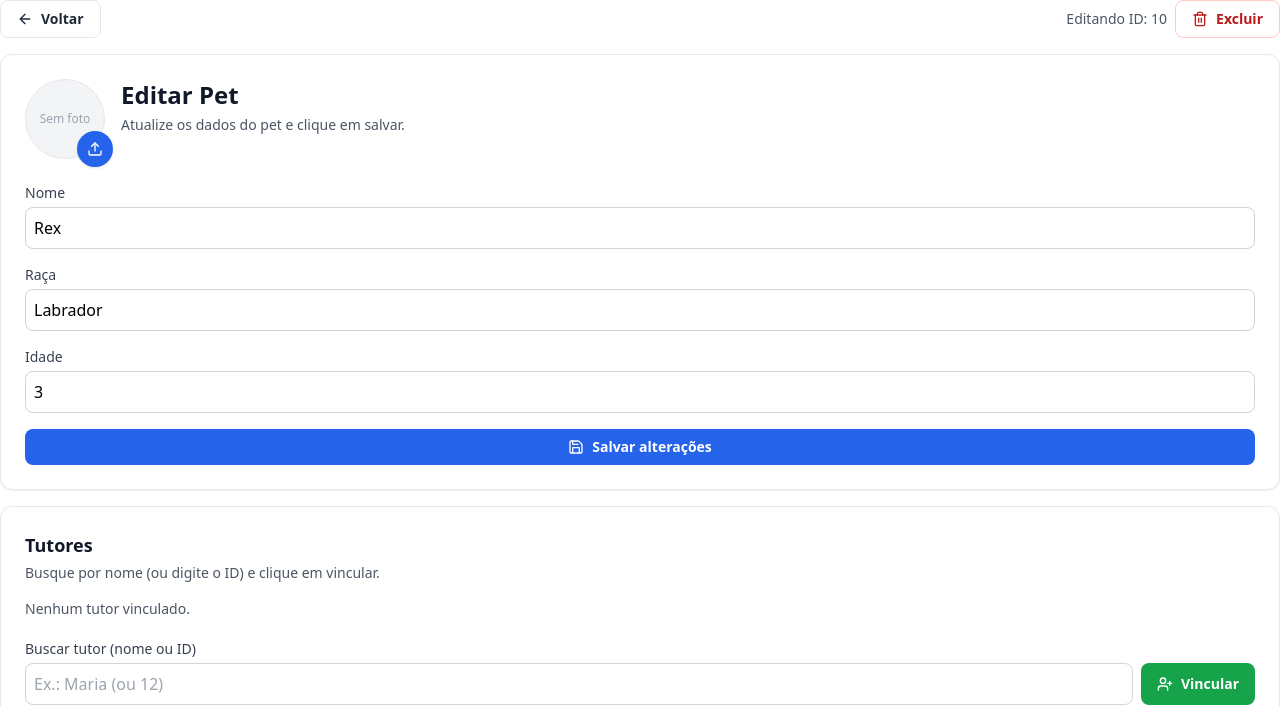
Test: PetEdit › valida formulário e impede submit quando nome está vazio
Expected: the heading "Editar Pet" is shown, x1=121 y1=78 x2=239 y2=111
Clear the 1st field with placeholder "Ex.: Rex" at [640, 228], box x1=25 y1=207 x2=1255 y2=249
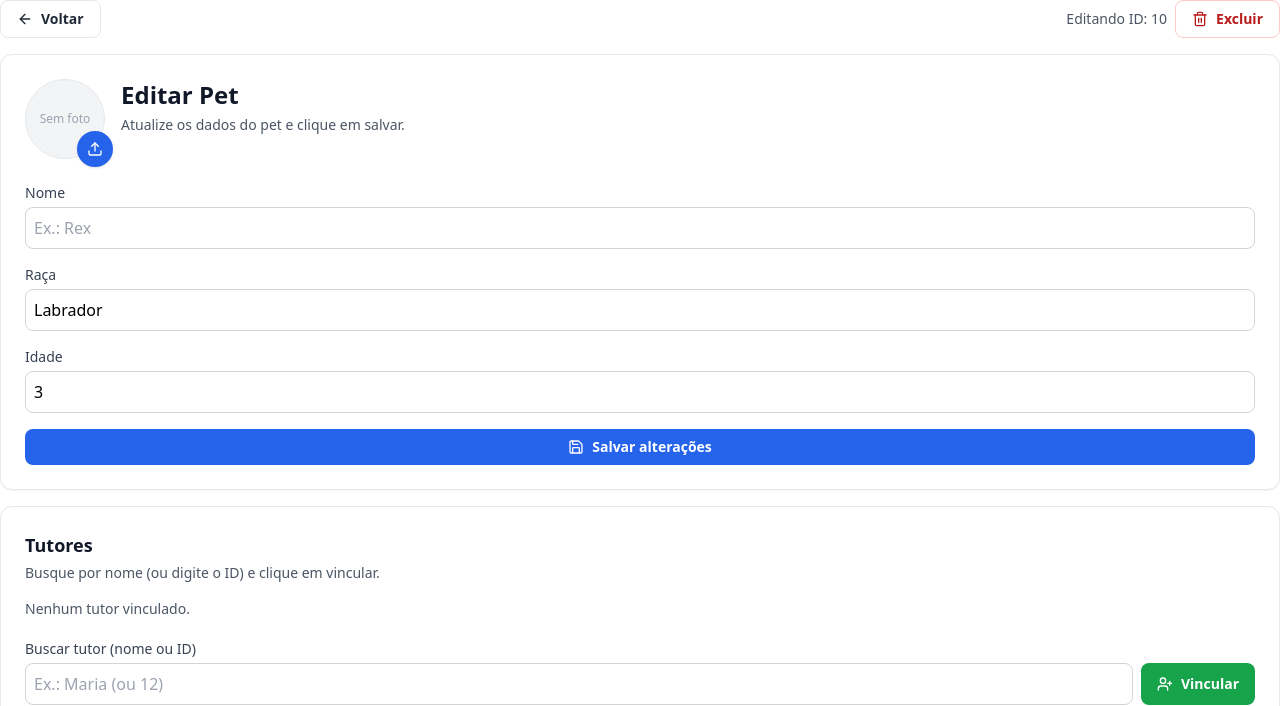
Click the button "Salvar alterações" at [640, 447], box x1=25 y1=429 x2=1255 y2=465
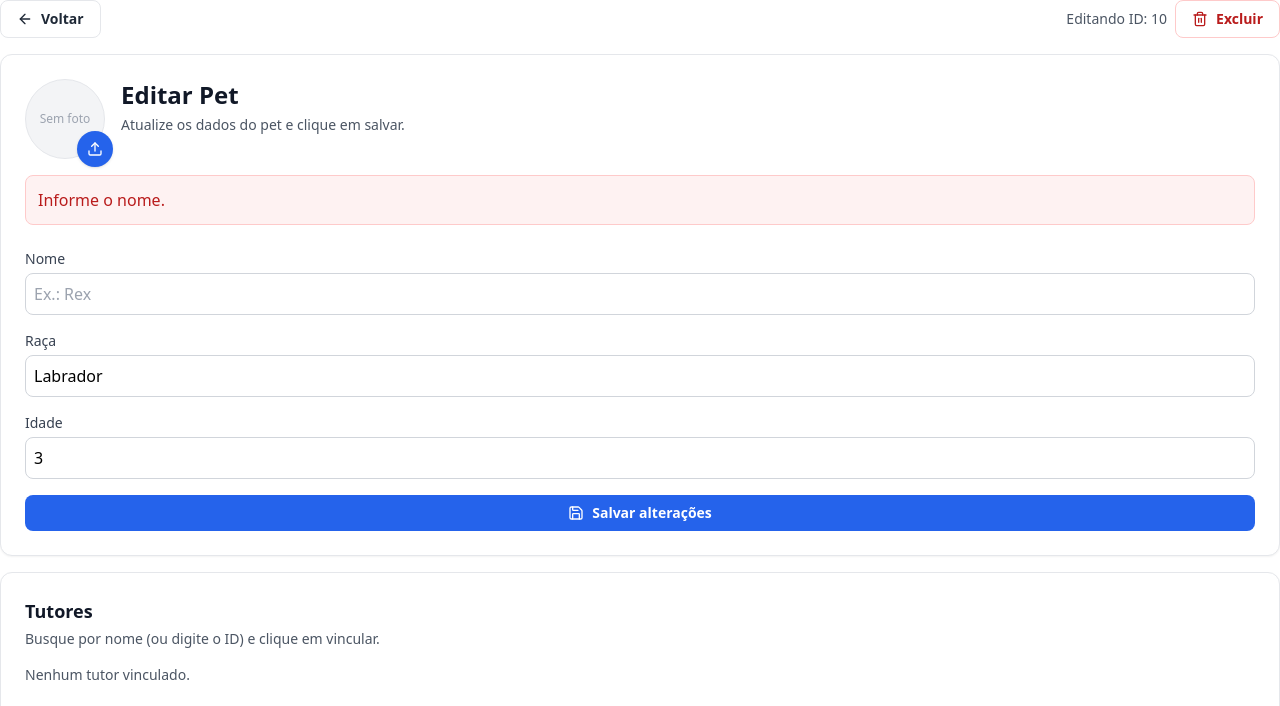
Expected: the text "Informe o nome." is shown, x1=25 y1=175 x2=1255 y2=225
